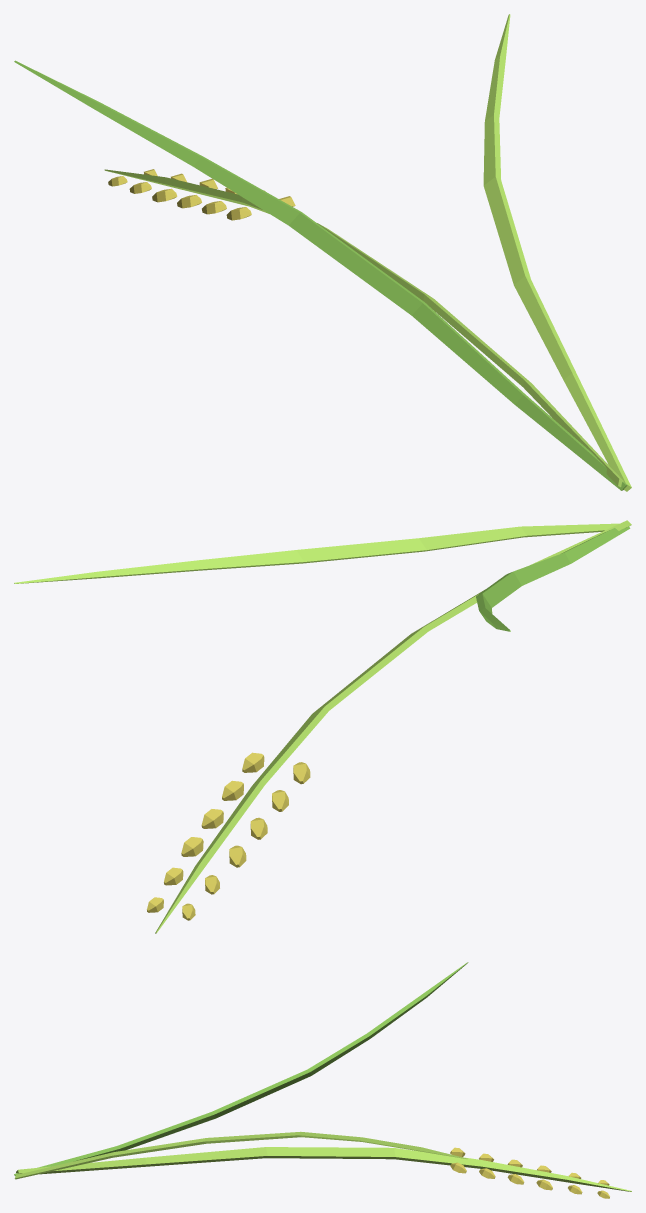
Rendered from Riceplant90degree.fbx.
The picture shows the model from 3 angles, top to bottom: view 1: azimuth 30°, elevation 25°; view 2: azimuth 150°, elevation 25°; view 3: azimuth 270°, elevation 25°; orthographic projection. The views are drawn at different scales.
Parts seen in each view (by area): view 1: RicePlant; view 2: RicePlant; view 3: RicePlant.
Boxes of the visible parts, <box> form: RicePlant: <box>14,14,631,491</box>; RicePlant: <box>14,520,631,933</box>; RicePlant: <box>14,962,631,1198</box>.
Bounding box in the file's own units: 225 × 130 × 65.23.
